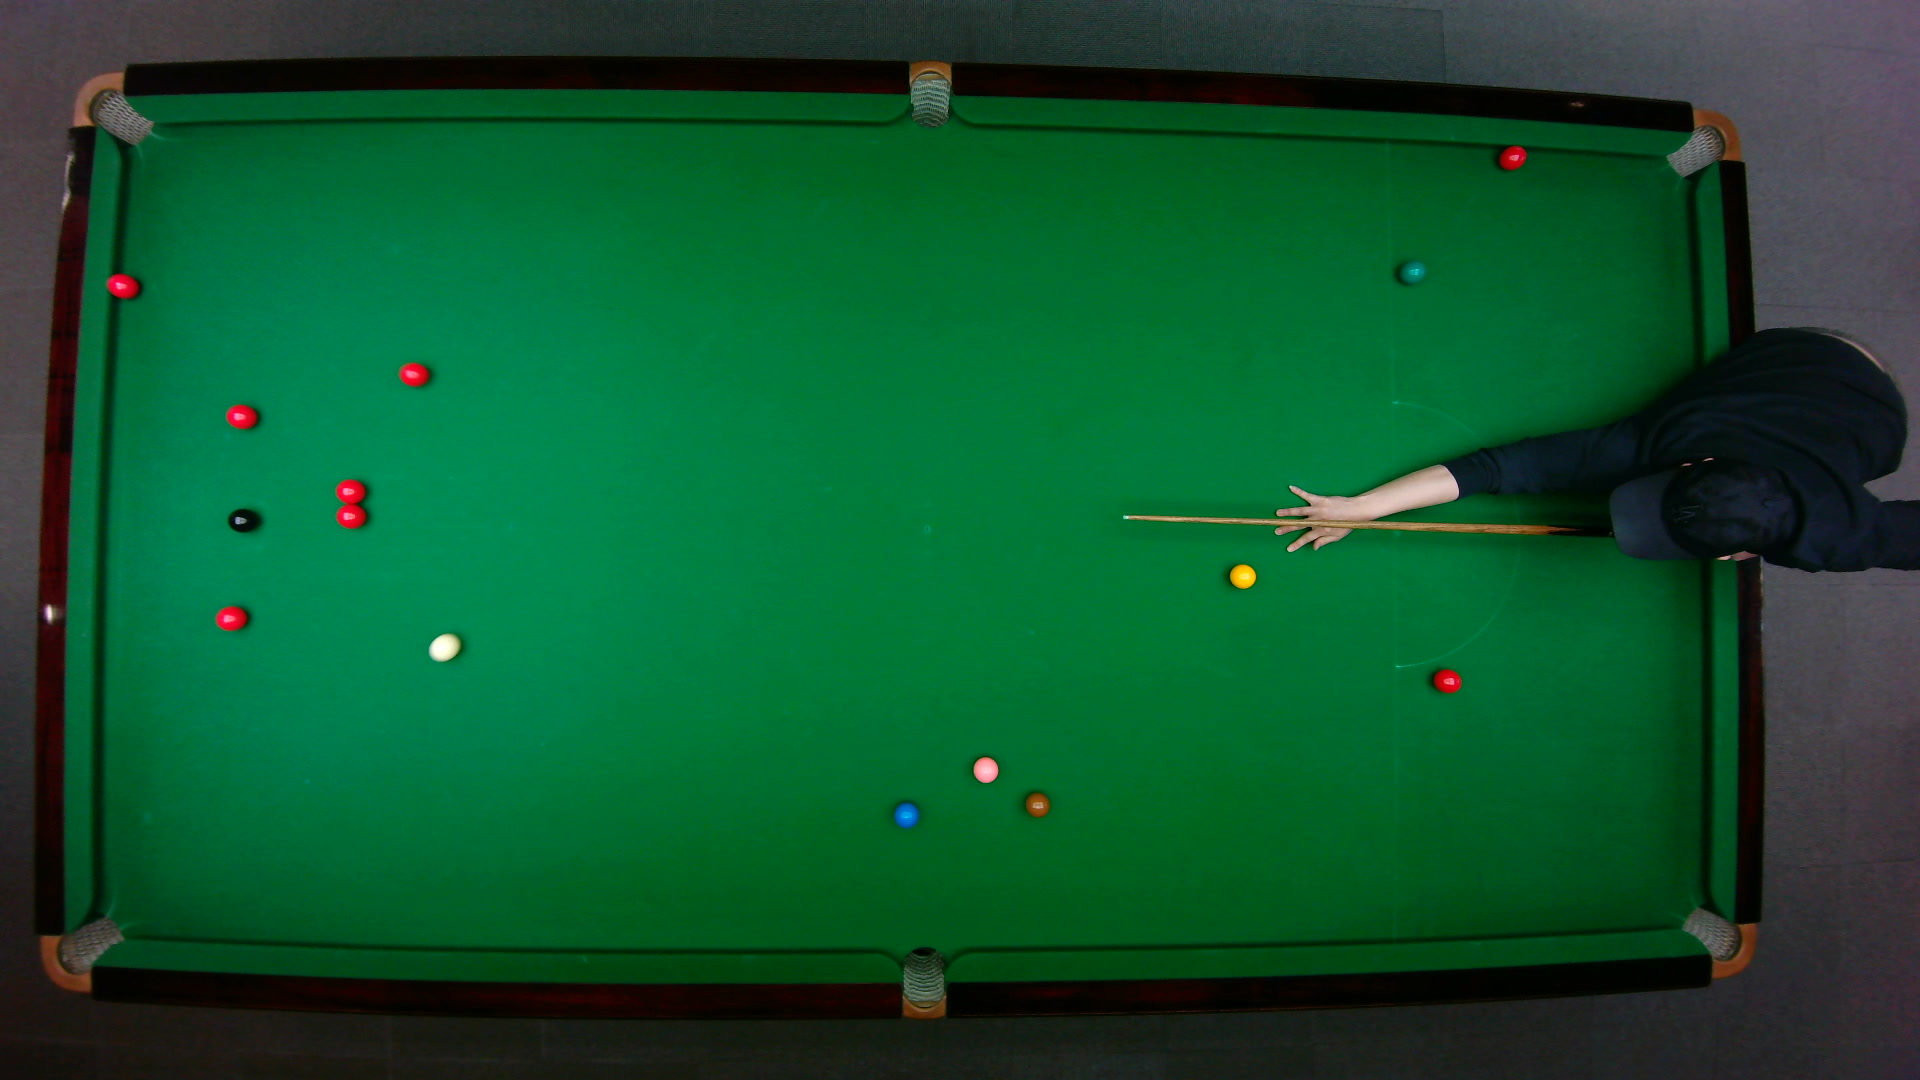bag: (38, 914, 125, 992), (69, 70, 154, 145), (1677, 905, 1756, 978), (1663, 108, 1741, 178), (901, 944, 944, 1021), (909, 58, 949, 128)
black: (225, 506, 258, 533)
blue: (891, 800, 918, 828)
brown: (1023, 791, 1050, 818)
cue: (1120, 512, 1615, 538)
green: (1396, 258, 1425, 284)
pink: (971, 756, 1000, 783)
red: (212, 603, 249, 632), (223, 401, 258, 430), (103, 270, 138, 299), (1429, 666, 1462, 694), (334, 476, 368, 502), (397, 360, 430, 386), (334, 502, 367, 529), (1497, 142, 1527, 170)
white: (427, 632, 462, 662)
yellow: (1226, 560, 1255, 589)
zone: (1390, 400, 1523, 670)
